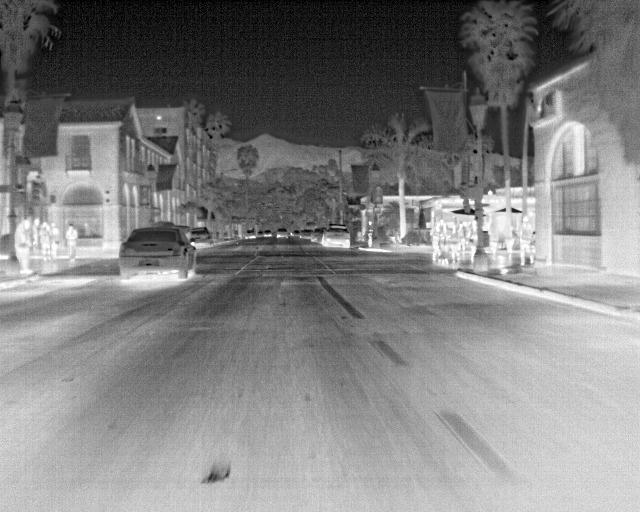bicycle: (116, 222, 198, 282), (320, 224, 352, 250), (189, 226, 217, 245), (308, 227, 324, 244), (244, 226, 260, 241), (275, 225, 290, 239), (298, 228, 314, 241)
empty: (14, 218, 34, 274), (516, 214, 536, 266), (501, 217, 516, 266), (63, 222, 78, 266), (38, 221, 52, 259), (49, 223, 61, 258), (30, 214, 42, 247)
